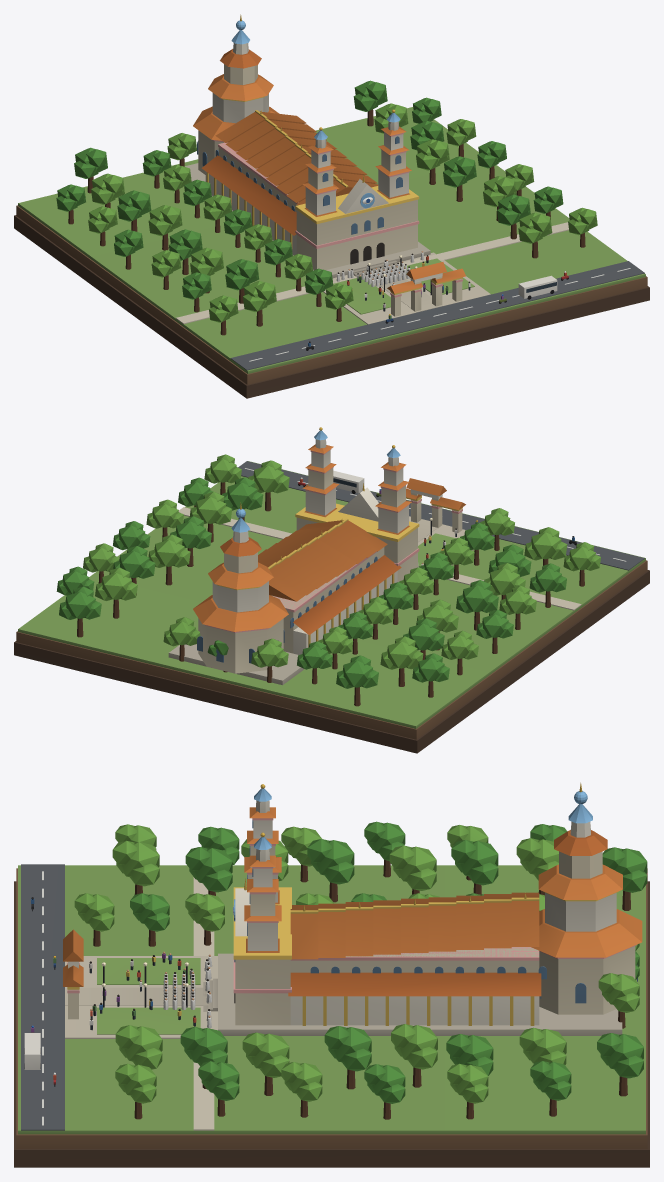
Rendered from toa-thanh-tay-ninh.glb.
3 views of the same model, one above another, from view 1: azimuth 30°, elevation 25°; view 2: azimuth 150°, elevation 25°; view 3: azimuth 270°, elevation 25° (orthographic). The views are drawn at different scales.
Parts seen in each view (by area): view 1: TT_p_HC_bike_2E2E30; view 2: TT_p_HC_bike_2E2E30; view 3: TT_p_HC_bike_2E2E30.
Boxes of the visible parts, box(x1,y1,x2,y2) form: TT_p_HC_bike_2E2E30: box(14, 14, 649, 398); TT_p_HC_bike_2E2E30: box(14, 427, 649, 753); TT_p_HC_bike_2E2E30: box(14, 782, 649, 1167).
Size of the model in its own units: 92 by 40 by 92.
Materials: 1 (1 with a texture image).
